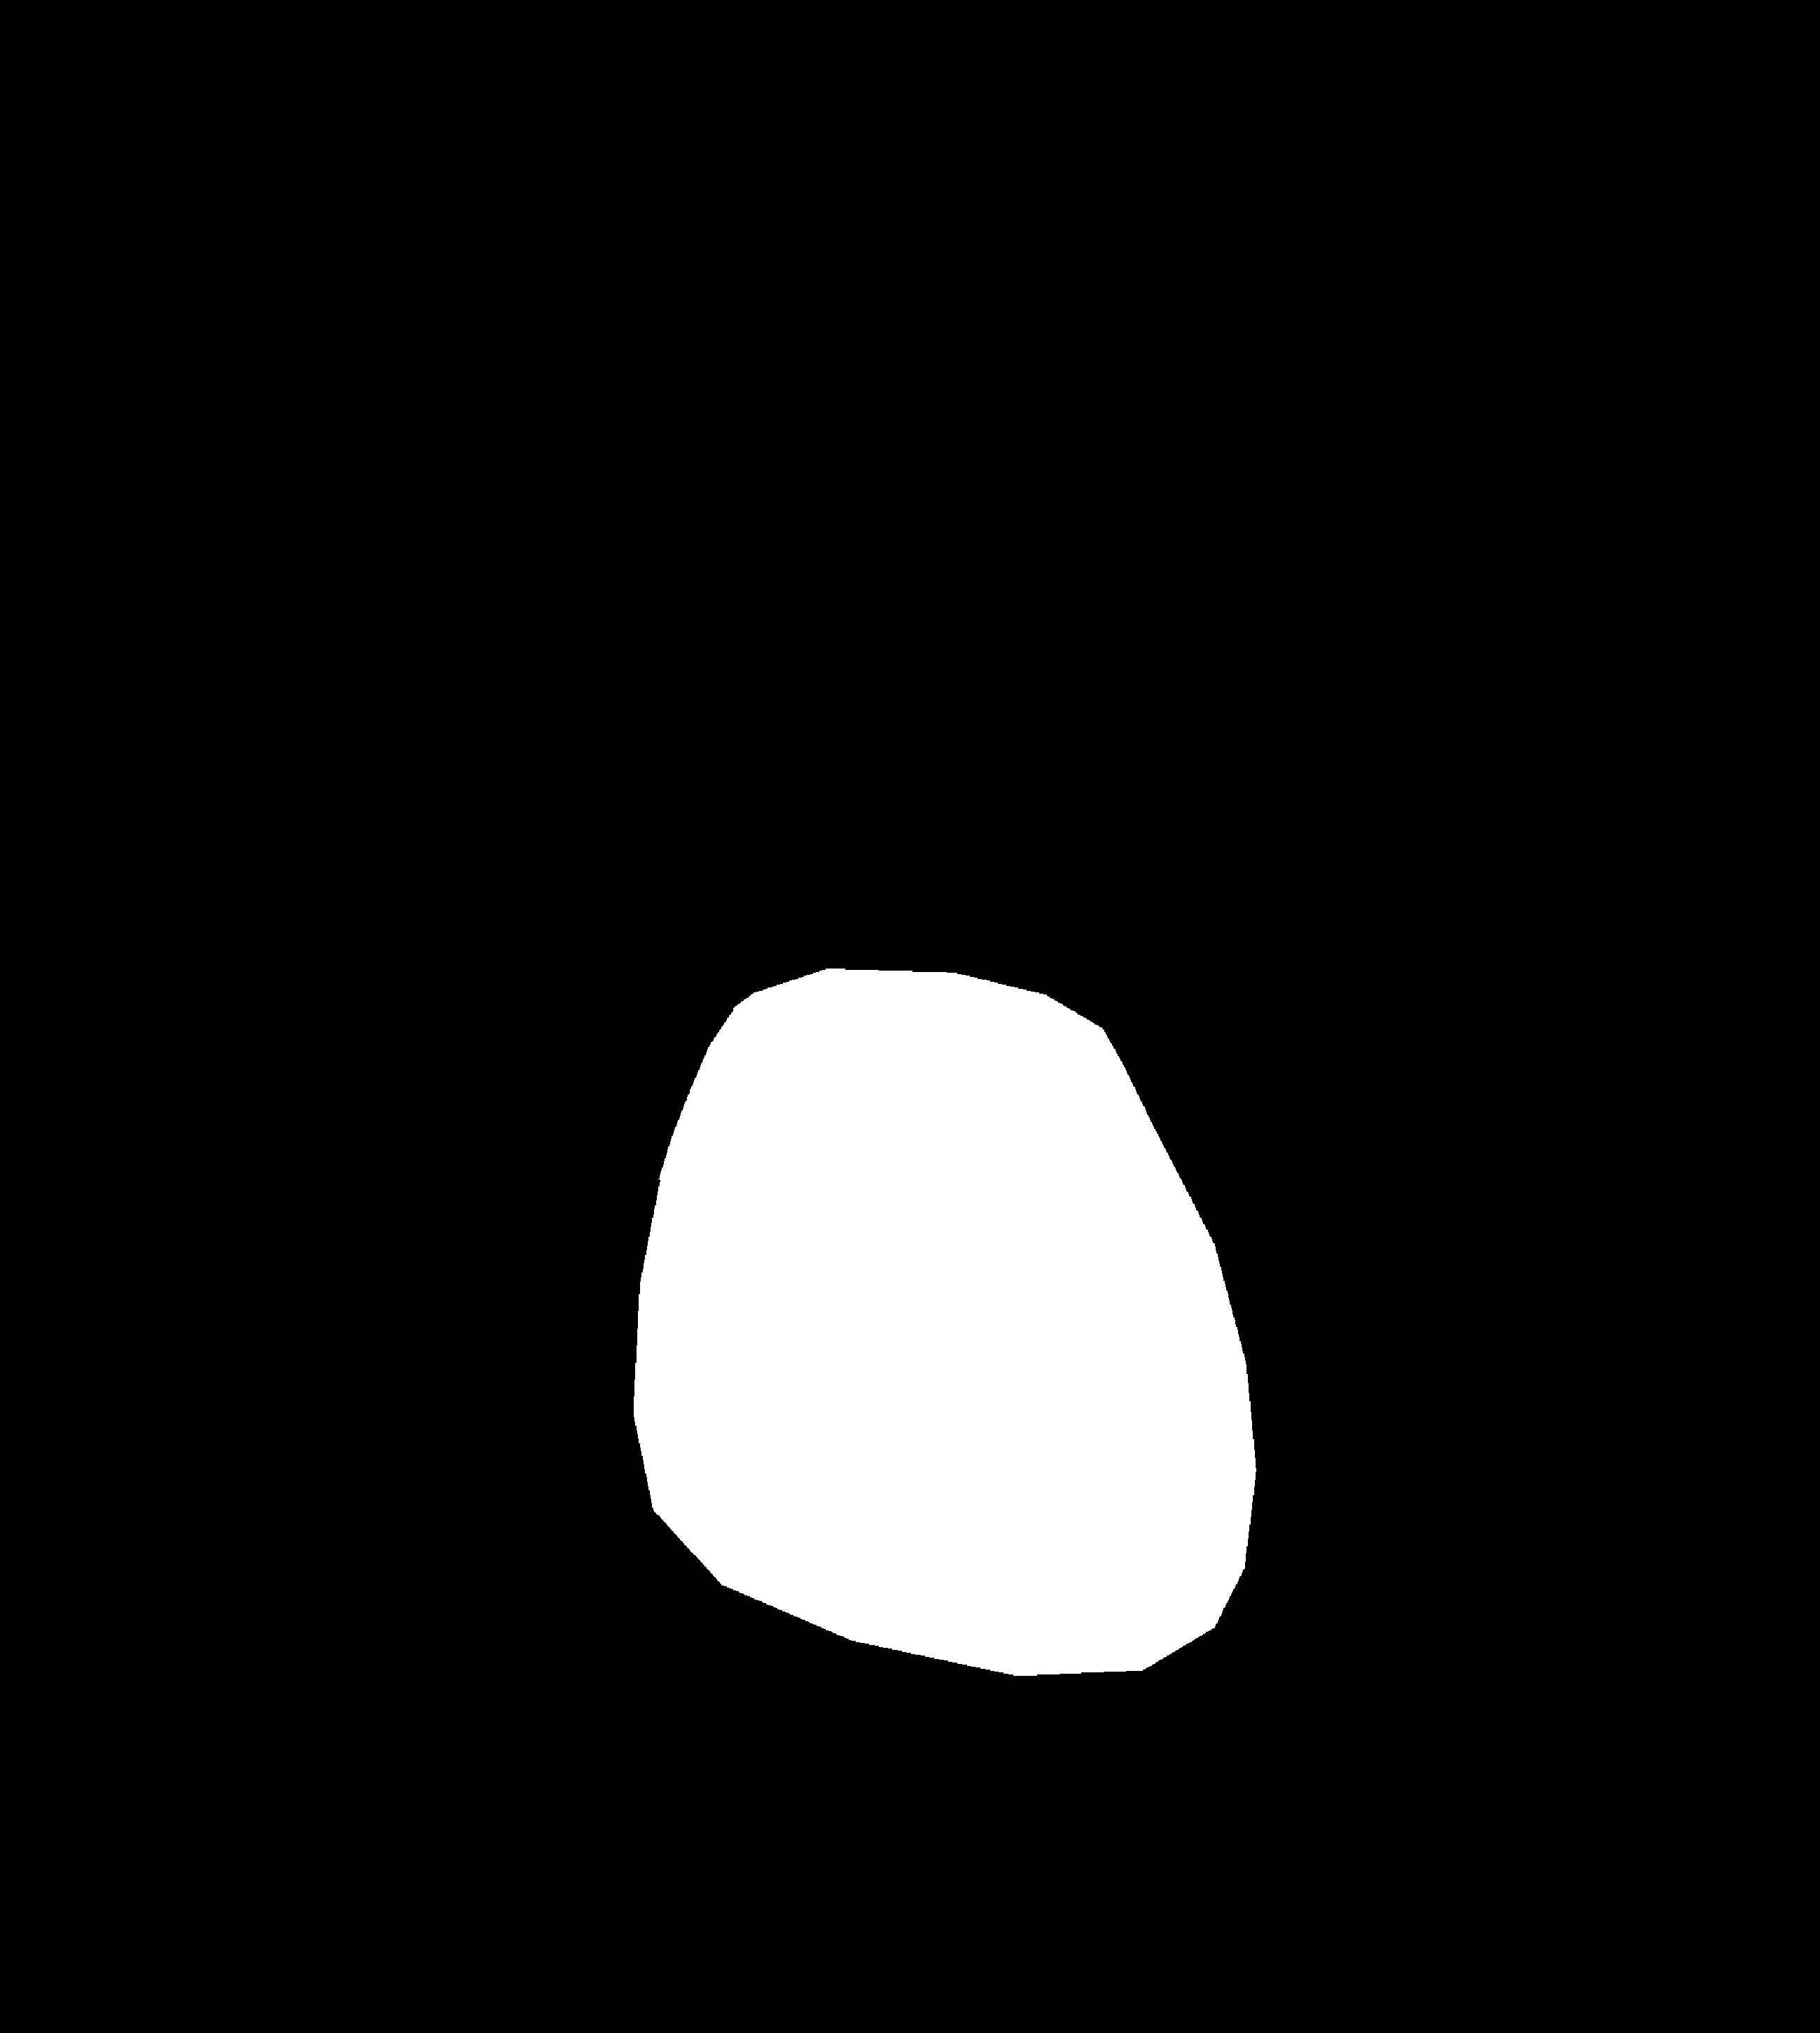heart: (638, 1002, 1253, 1669)
left_lung: (211, 336, 808, 1334)
right_lung: (942, 292, 1613, 1875)
